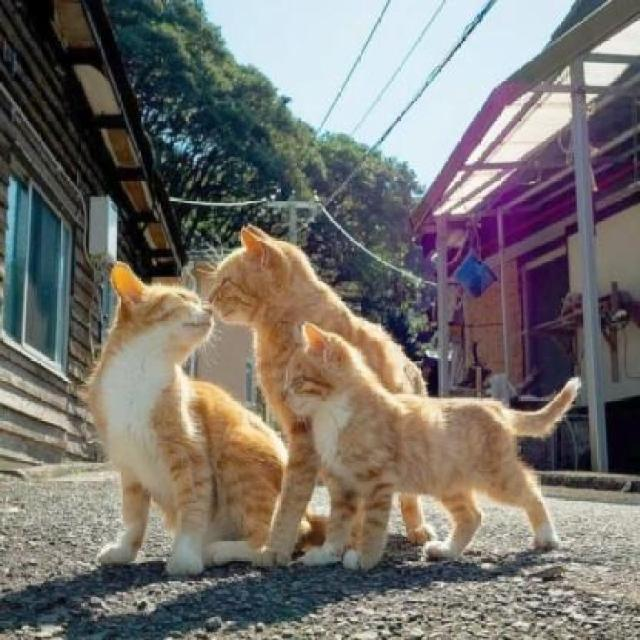cat: (267, 325, 591, 573), (93, 267, 252, 567), (205, 223, 324, 374)
